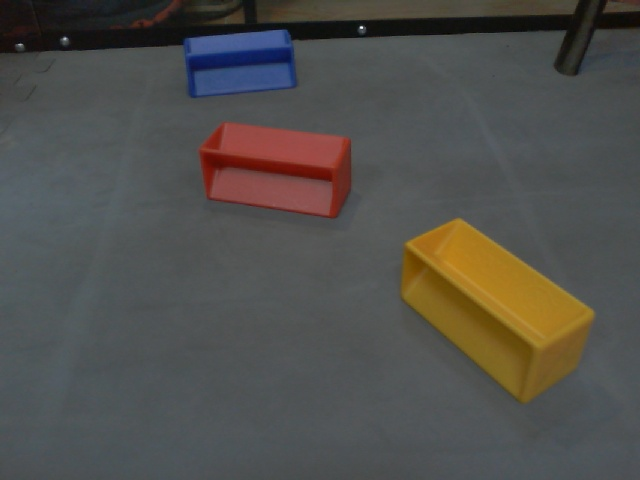BlueSample: (184, 29, 298, 96)
RedSample: (198, 120, 353, 220)
YellowSample: (398, 216, 598, 409)
